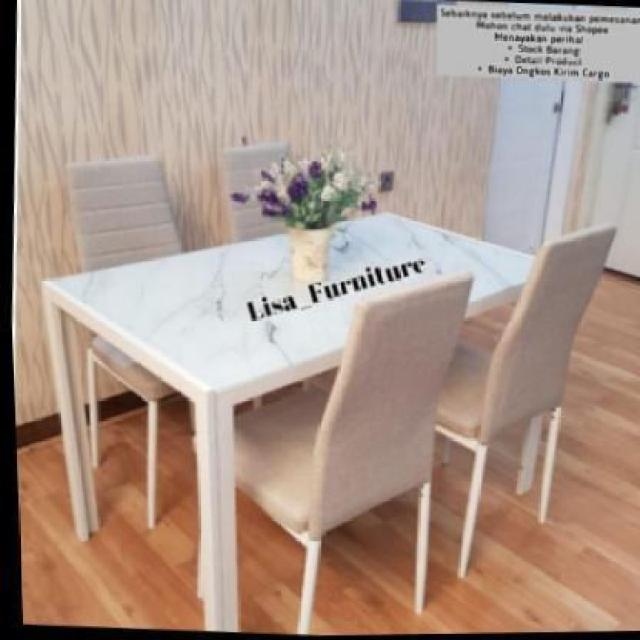tables: (39, 209, 542, 631)
